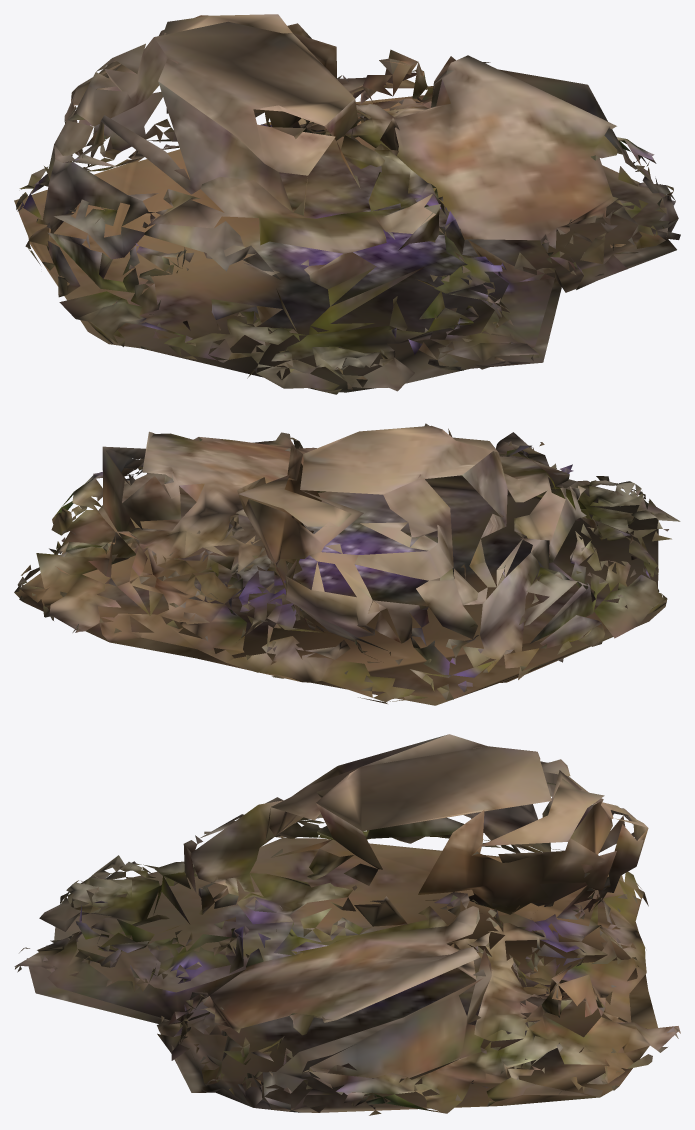
File: Meadow_Rocks_town.glb
3 views of the same model, one above another, from view 1: azimuth 30°, elevation 25°; view 2: azimuth 150°, elevation 25°; view 3: azimuth 270°, elevation 25° (orthographic). The views are drawn at different scales.
Parts seen in each view (by area): view 1: Meadow_Rocks; view 2: Meadow_Rocks; view 3: Meadow_Rocks.
Part boxes in pixels (bbox=[...]): Meadow_Rocks: bbox=[14, 14, 680, 394]; Meadow_Rocks: bbox=[14, 423, 680, 705]; Meadow_Rocks: bbox=[14, 734, 680, 1115].
Size of the model in its own units: 1.97 by 0.5682 by 1.96.
1 material, 1 textured.
